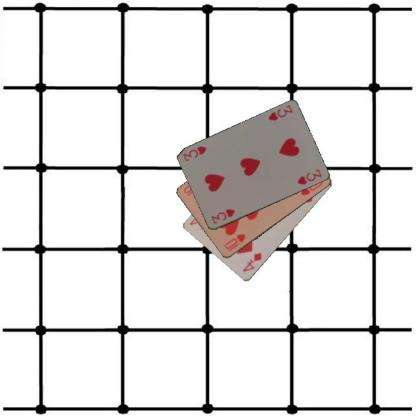10h: (222, 231, 247, 253)
3h: (265, 103, 294, 122), (209, 207, 236, 226)
4d: (240, 250, 263, 273)
